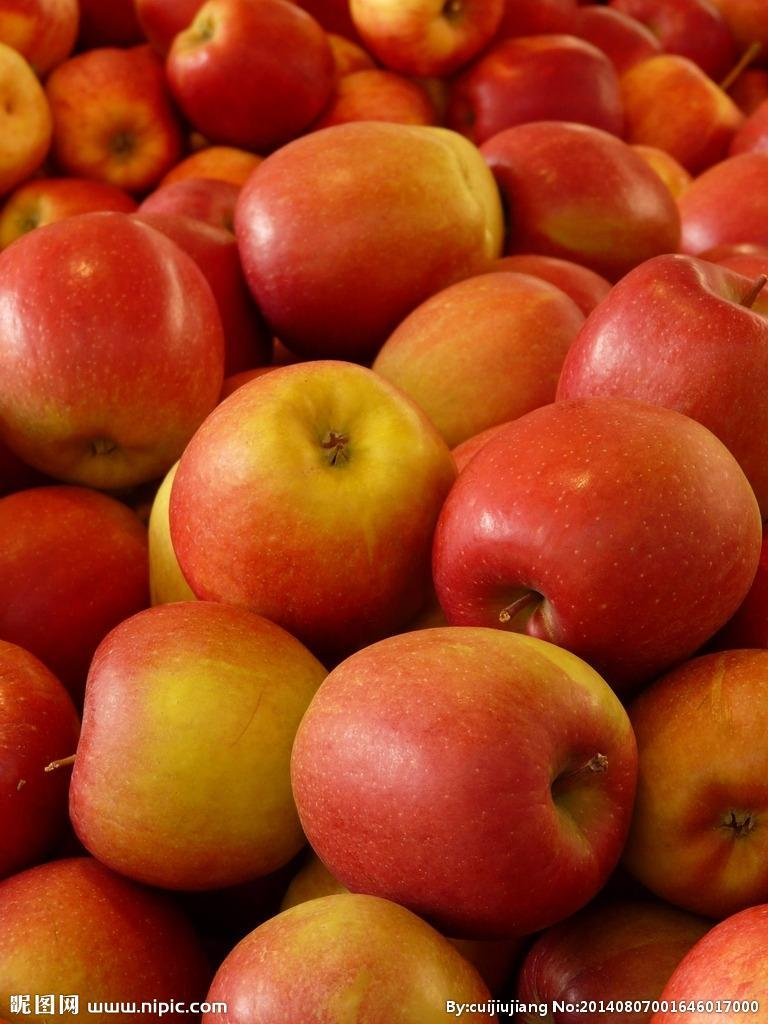apple: (287, 624, 640, 933), (432, 382, 756, 671), (64, 601, 351, 887), (169, 360, 460, 639), (1, 212, 232, 492), (234, 121, 501, 362)
